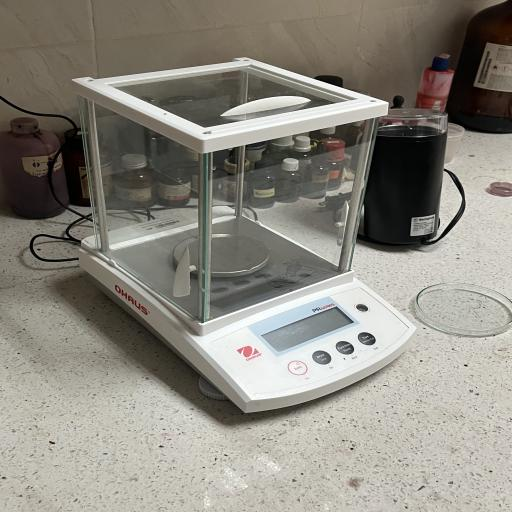Balanza_Analitica_Ohaus: (62, 50, 429, 429)
